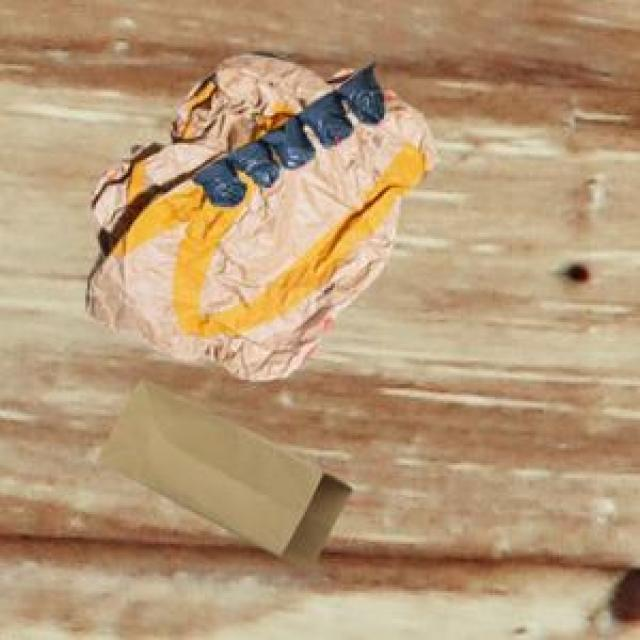miscellaneous trash: (190, 60, 380, 203)
paper: (83, 47, 433, 378), (94, 373, 348, 563)
